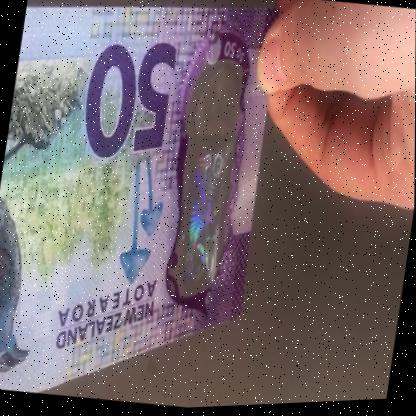50B: (172, 75, 244, 286)
